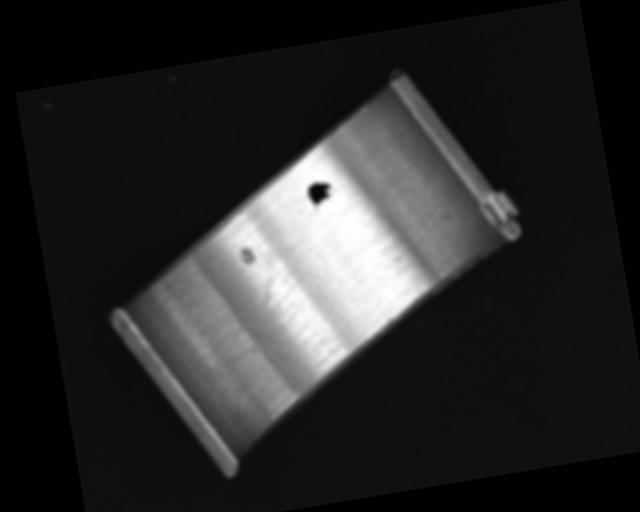blot: (305, 178, 342, 210)
bruise: (237, 243, 258, 267)
nick: (360, 103, 372, 118)
